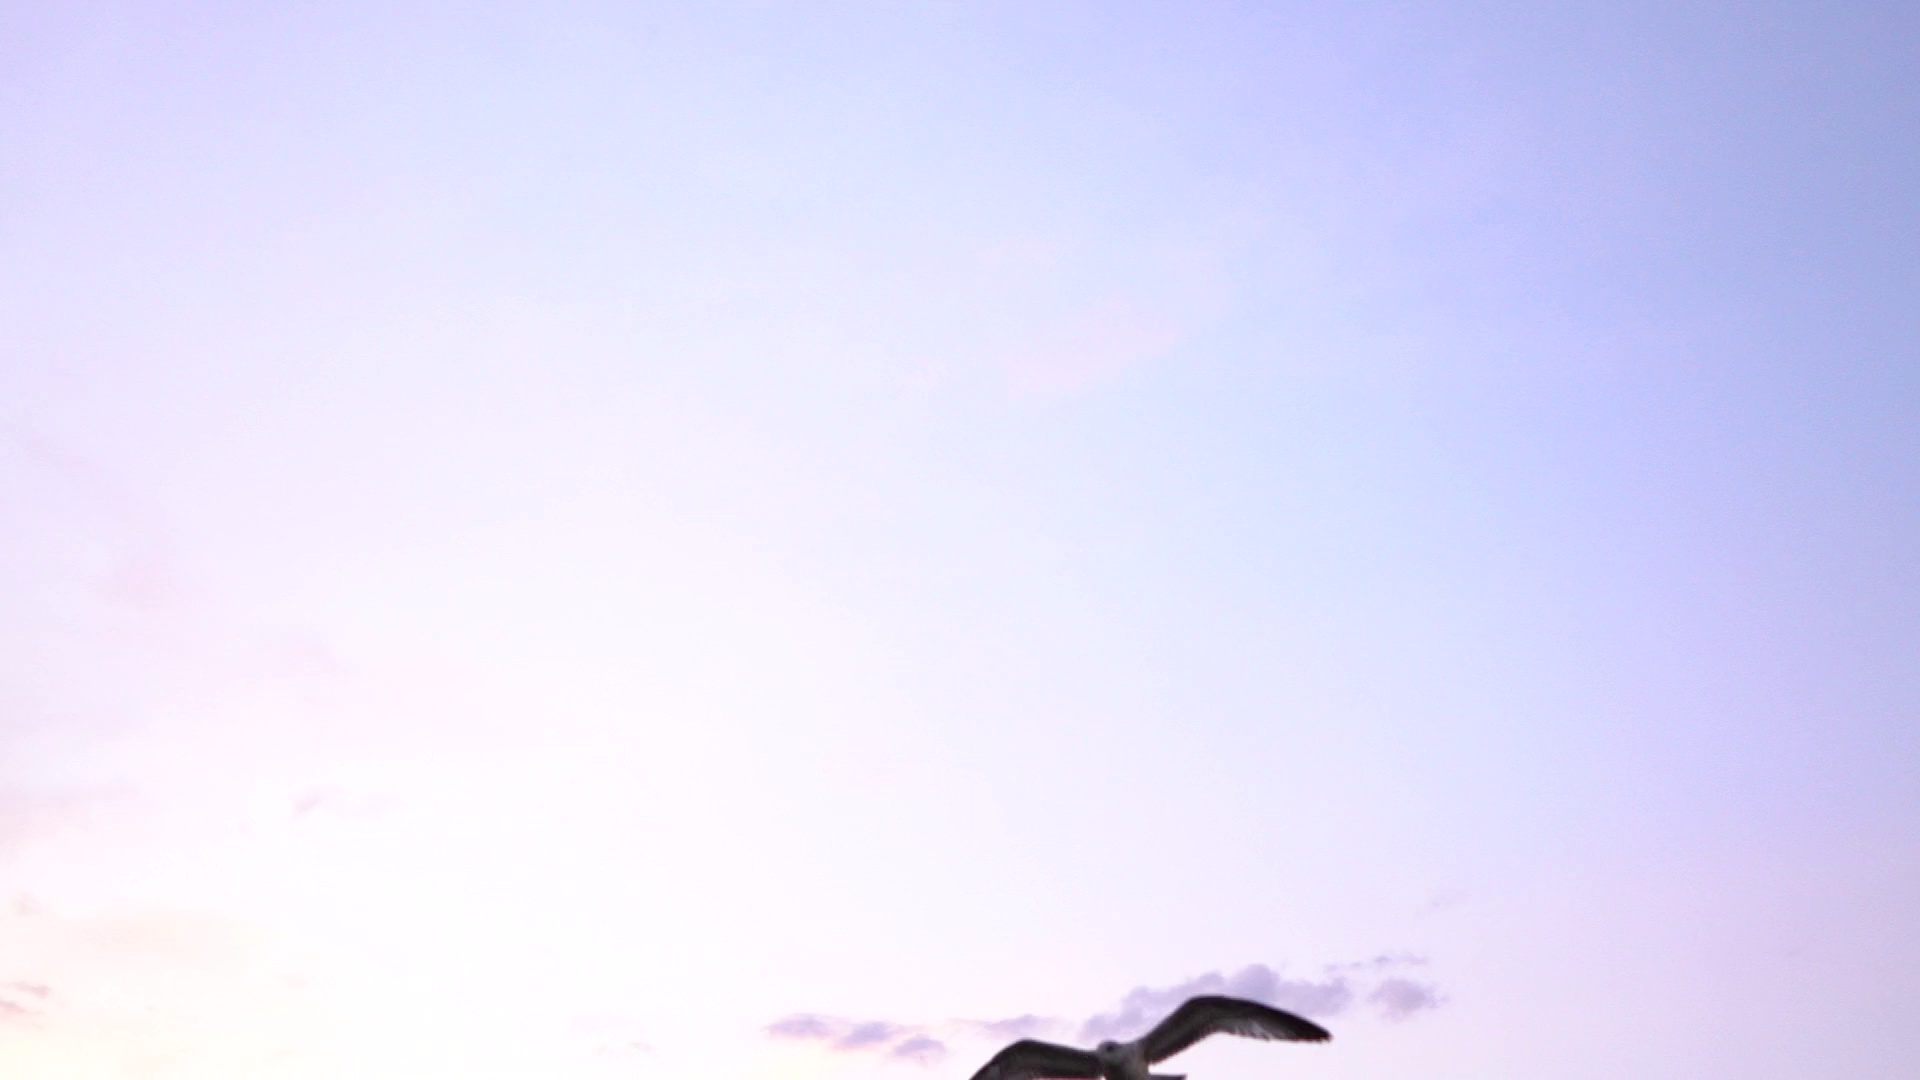bird: (961, 993, 1331, 1077)
